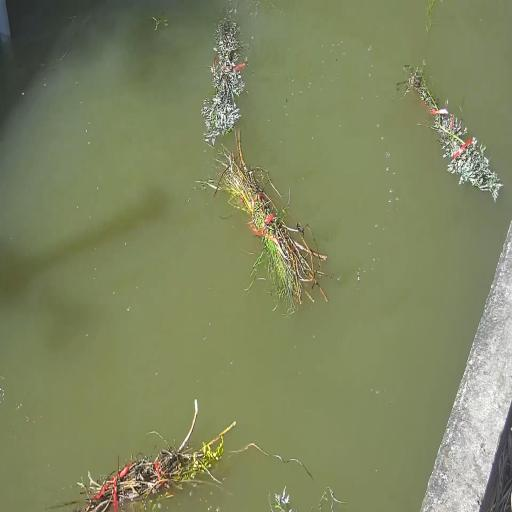twig: (198, 138, 328, 307), (78, 400, 235, 512), (397, 68, 502, 201), (201, 17, 246, 145)
